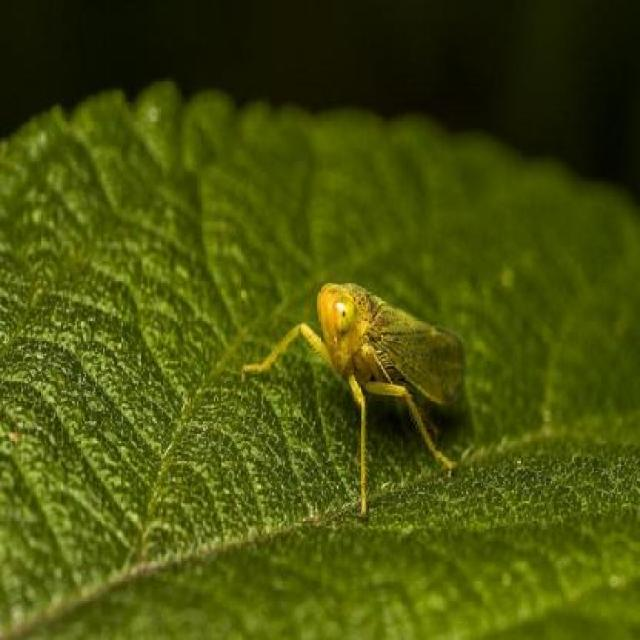green-leafhopper: (254, 274, 472, 500)
